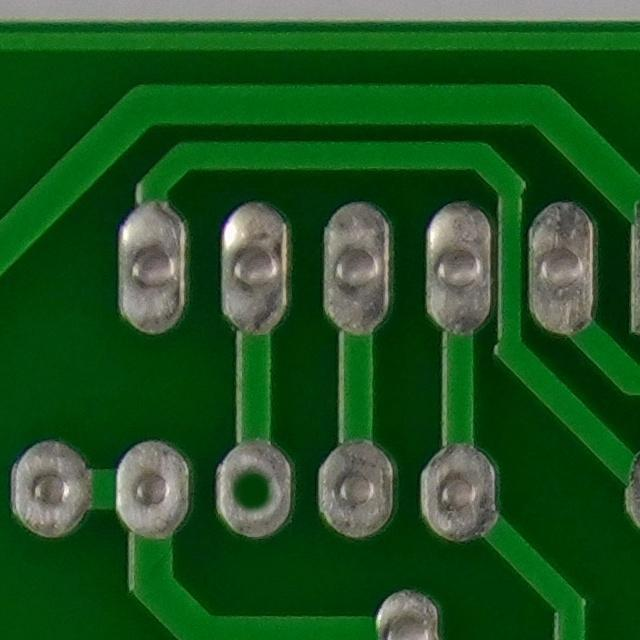missing_hole: (217, 439, 289, 526)
